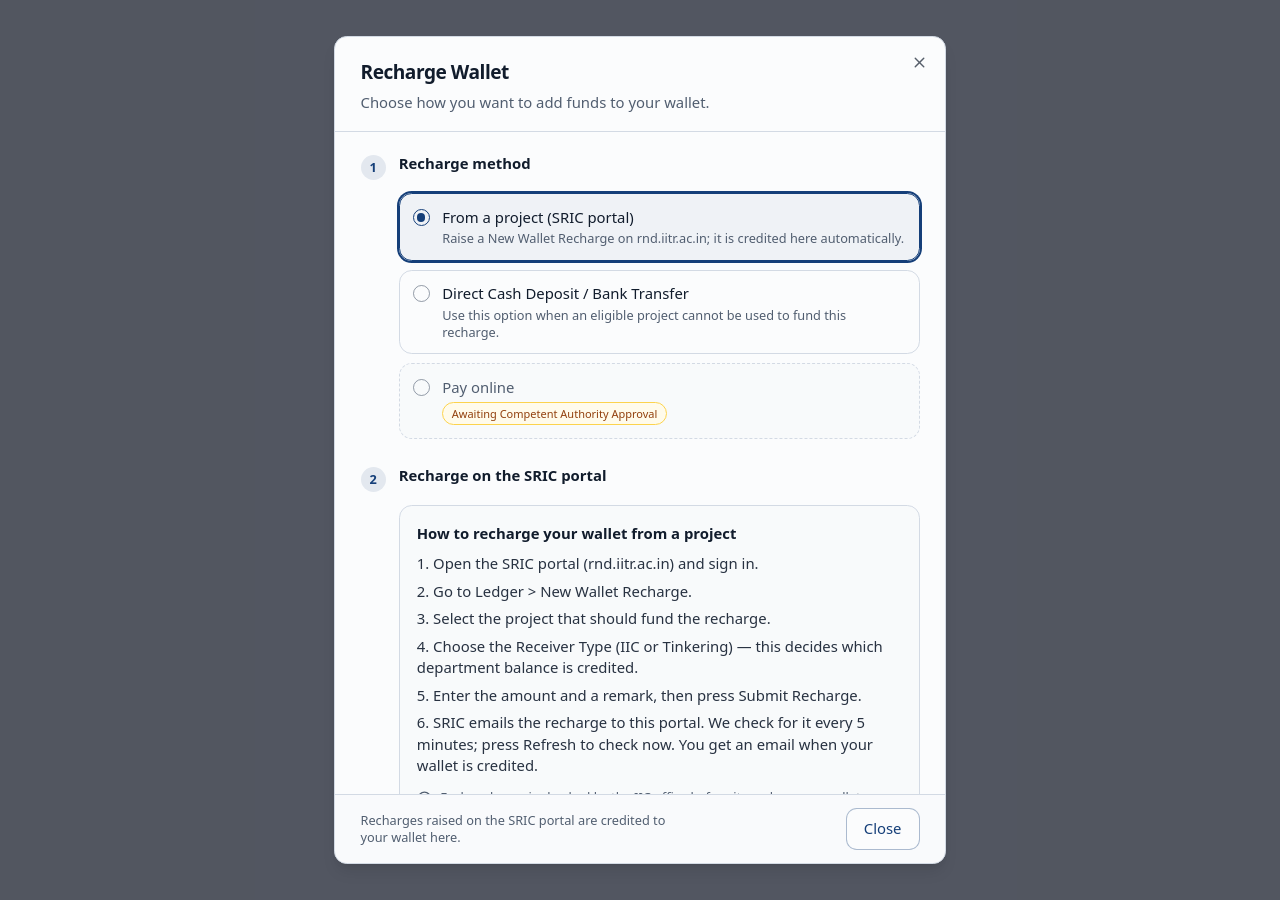
RechargeWalletDialog: Project Grant retired › offers the SRIC portal procedure instead of the Project Grant form, keeping the other modes
This screenshot has width=1280, height=900.
Expected: the text "Pay online" is shown, x1=442 y1=377 x2=514 y2=397
Expected: the button "Send OTP" is not shown
Click the text "Direct Cash Deposit / Bank Transfer". click: (566, 293)
box: x1=442 y1=283 x2=689 y2=303
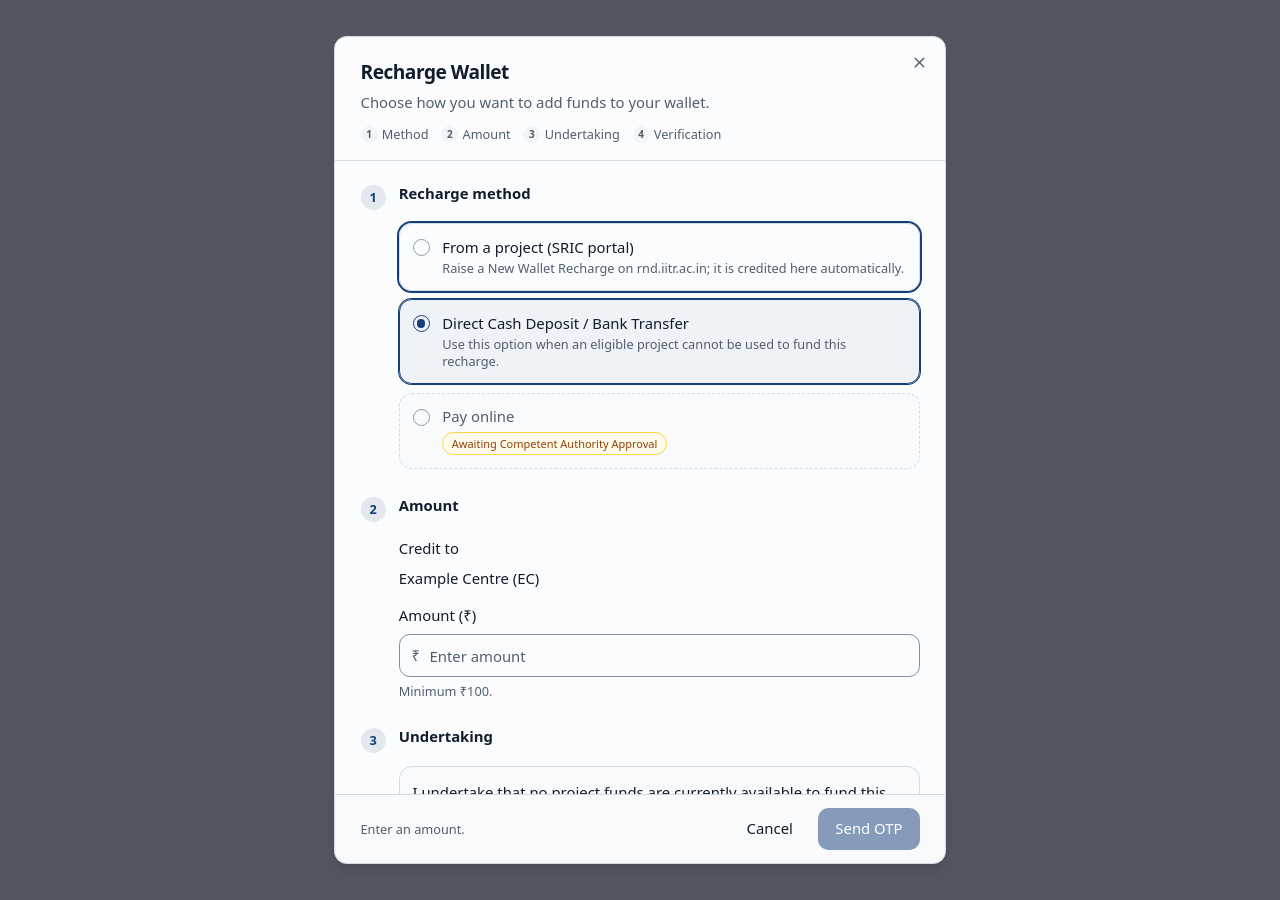
Result: the button "Send OTP" is shown at x1=818 y1=808 x2=920 y2=850
